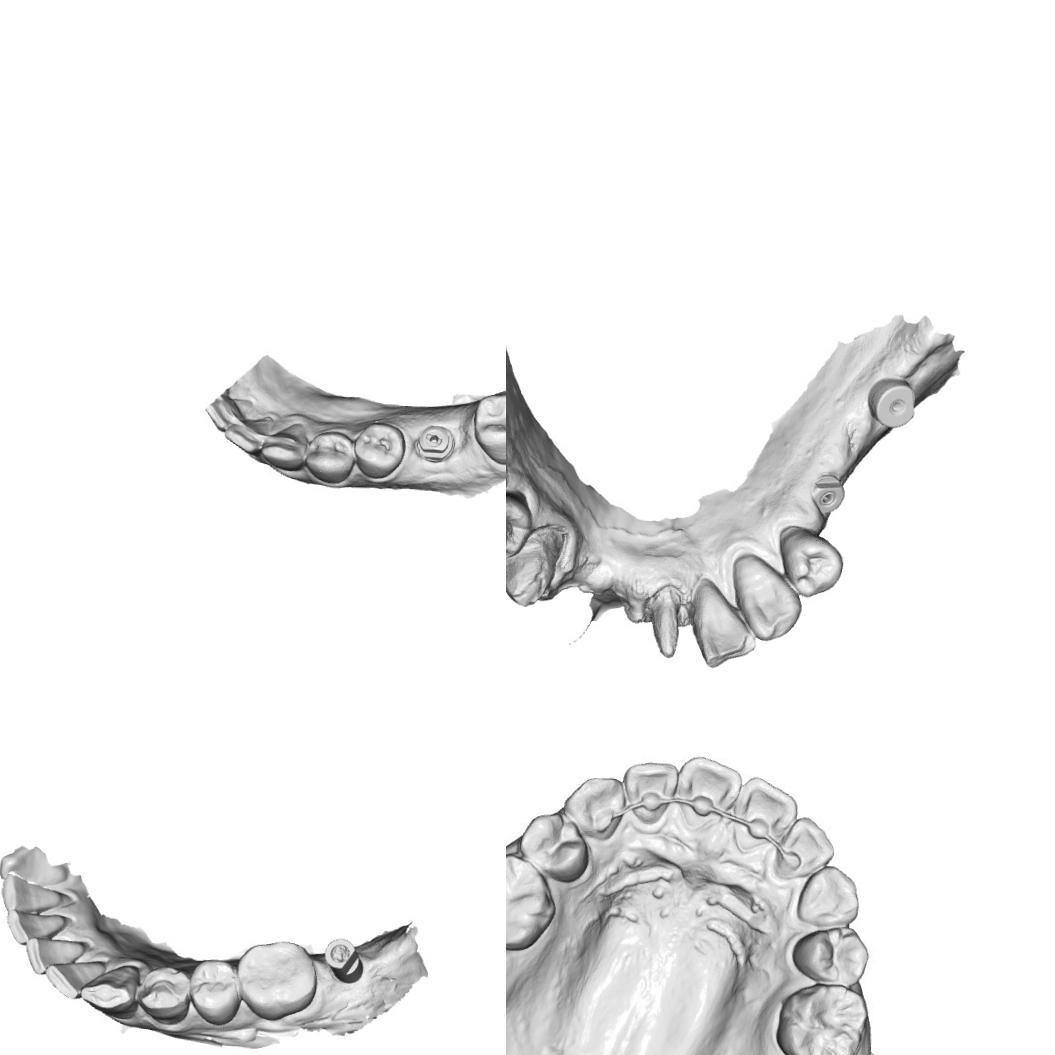canine: (729, 554, 802, 642), (794, 864, 859, 926), (79, 962, 141, 1021), (569, 774, 626, 837), (258, 421, 310, 472)
crown: (506, 527, 564, 609), (640, 589, 684, 664)
implant: (864, 372, 916, 426), (322, 934, 365, 985), (803, 473, 846, 512)
implant_minus: (412, 423, 456, 464)
incisor: (692, 580, 758, 669), (676, 754, 740, 822), (732, 776, 793, 844), (624, 759, 681, 826), (780, 818, 830, 879), (44, 957, 106, 1000), (0, 873, 66, 913), (4, 910, 66, 948), (223, 412, 276, 456), (25, 938, 82, 978), (204, 395, 254, 434)
molar: (237, 938, 319, 1022), (779, 985, 866, 1055), (506, 849, 555, 949), (470, 387, 506, 467)
premolar: (777, 521, 846, 600), (792, 922, 866, 986), (522, 812, 586, 884), (136, 964, 190, 1027), (188, 958, 238, 1026), (352, 420, 406, 481), (304, 428, 356, 486), (506, 494, 529, 565)
